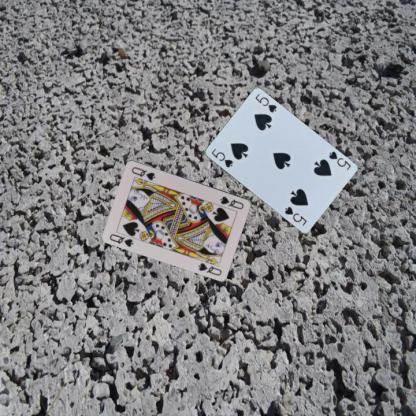5s: (326, 148, 352, 172), (209, 146, 234, 168)
Qs: (108, 231, 134, 248), (218, 194, 245, 210)
